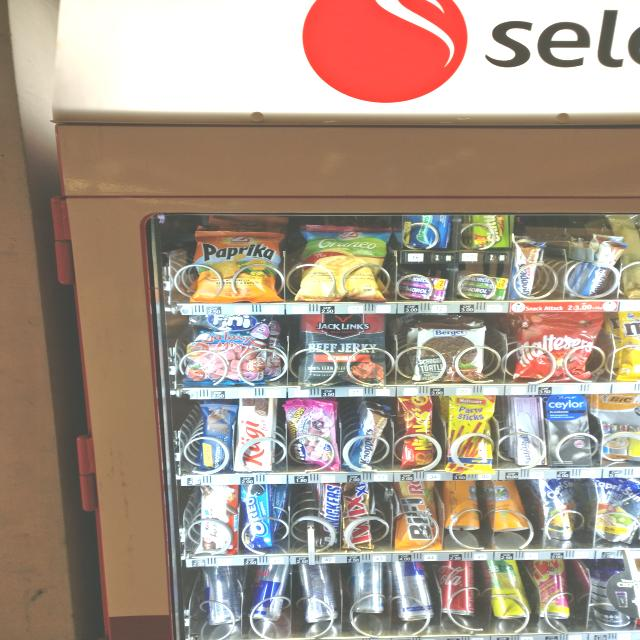airwaves_menthoneucalyptus_riegel_14_1_50173167: (399, 213, 453, 249)
bifi_roll__50__4251097402635: (395, 478, 441, 548)
bueno___43__4008400320328: (194, 480, 241, 554)
c-swiss_dosenabisicetea__33__9120025930135: (490, 480, 533, 535), (446, 478, 488, 533)
caferoyal_classicmacchiato__33__7617014164487: (586, 563, 633, 628)
caprisun_multivitamin__20__4000177605004: (590, 476, 640, 544), (538, 477, 586, 543)
coke__dose_33__54491472: (440, 558, 479, 618)
fini_galaxymix_packung_100_1_8410525150364: (186, 315, 270, 383)
fini_jellykisses_packung_80_1_8410525116704: (282, 396, 340, 466)
fuse_lemon_dose_33__5449000235947: (489, 559, 533, 621)
jacklinks_beefjerkyorginal__25__4047751730219: (301, 312, 388, 384)
kagi___50__7610046000259: (237, 395, 275, 471)
knoppers_riegel____4035800488808: (576, 237, 624, 300), (345, 406, 387, 470), (511, 236, 544, 303)
lorenz_nicnacs__40__4018077798818: (396, 393, 440, 469)
malburner_partysticks__40__7610200279682: (444, 392, 498, 473)
maltesers___100__5000159023061: (514, 309, 601, 378)
oreo___66__84100733: (234, 481, 281, 555)
powerbar_proteinplusschoko__55__4029679520028: (200, 400, 233, 471)
redbull___33__90162909: (199, 566, 245, 628), (392, 560, 438, 622), (298, 564, 343, 625), (252, 564, 295, 624), (347, 562, 388, 613)
skittles_sour_riegel_51_1_0000000000004: (468, 212, 510, 248)
snickers___50__5000159461122: (314, 477, 346, 547)
stimorol_spearmint_riegel_14_1_0000000000005: (455, 271, 505, 298)
stimorol_wildcherry_riegel_14_1_57060330: (399, 273, 446, 300)
tiki_himbeer_brause__50__00000000009342: (531, 557, 577, 624)
twix___50__5000159459228: (341, 482, 378, 552)
zweifel_graneochilli__100__7610095184009: (297, 220, 386, 298)
zweifel_paprika__90__7610095013002: (188, 227, 280, 301)
